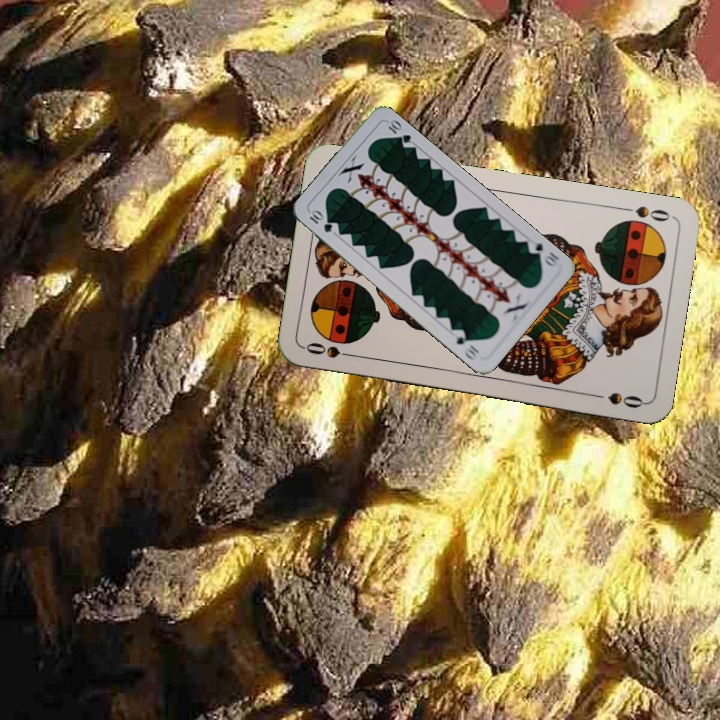G10: (523, 236, 562, 270), (305, 206, 335, 235)
SO: (301, 338, 360, 361), (616, 202, 675, 224)
